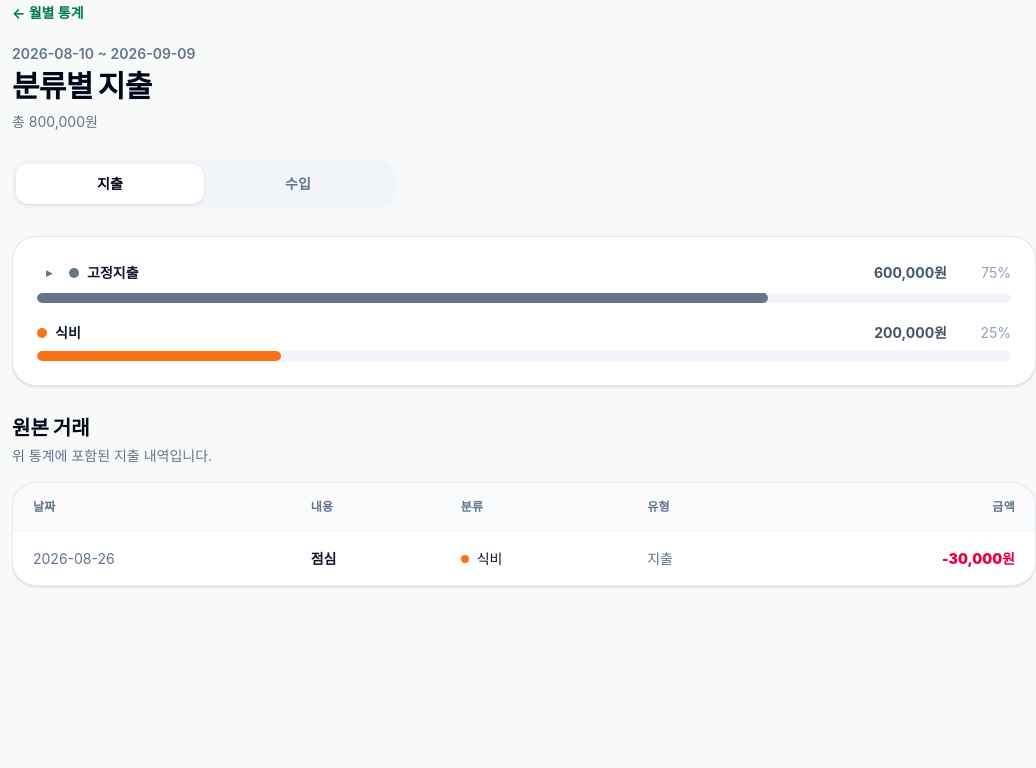
Scenario: StatisticsDetailScreen › shows grouped totals collapsed and expands their category details
Expected: the heading "분류별 지출" is shown, [12,68,152,104]
Expected: the text "주거비" is not shown
Click the button named "고정지출 하위 분류 펼치기": click(49, 273) [37,261,61,285]
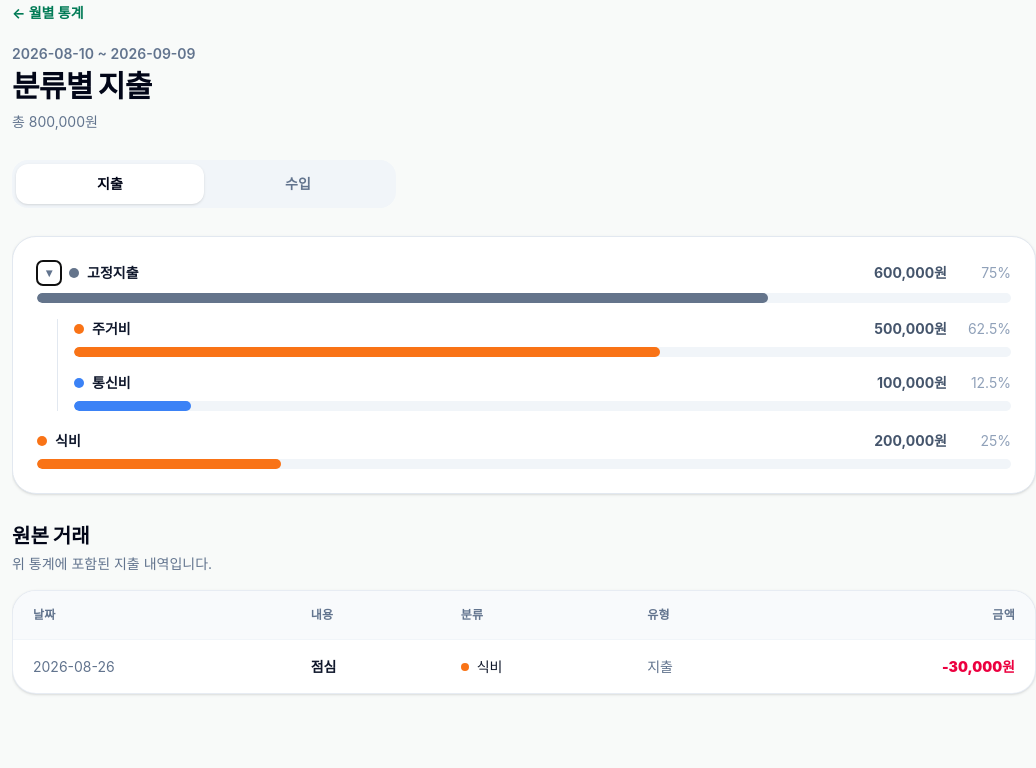
Now the button named "고정지출 하위 분류 펼치기" is expanded, box [37,261,61,285]
Now the text "주거비" is shown, box [92,320,131,337]
Now the text "통신비" is shown, box [92,374,131,391]
Type keys " "
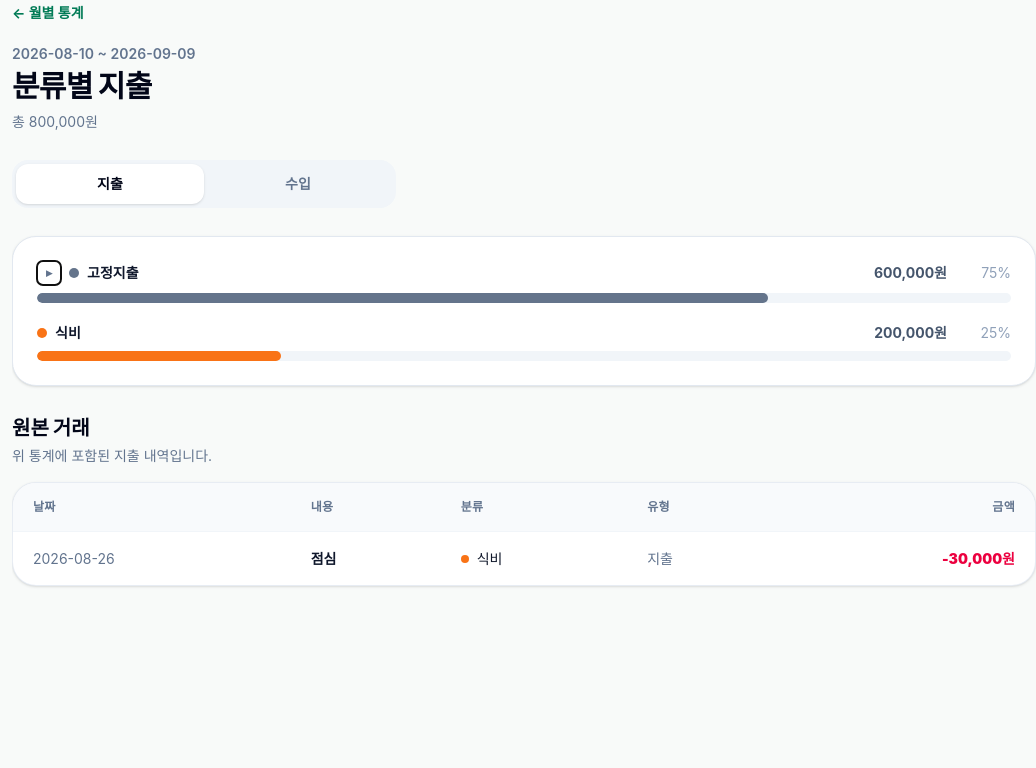
Now the button named "고정지출 하위 분류 펼치기" is collapsed, box [37,261,61,285]
Press Enter
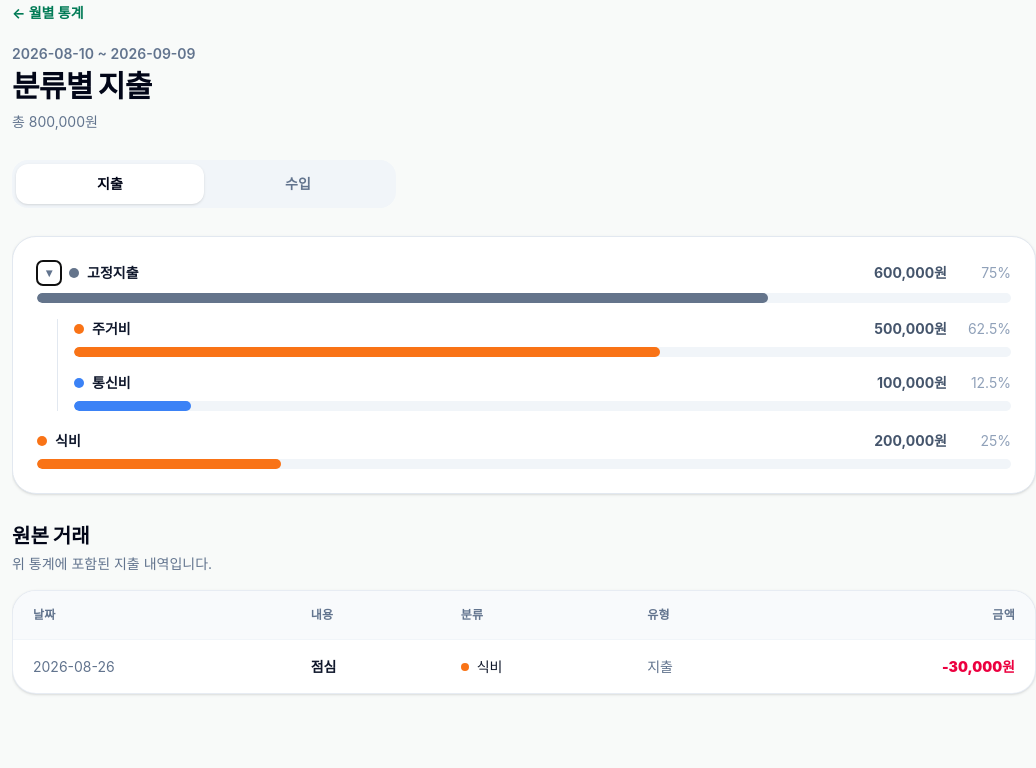
Now the button named "고정지출 하위 분류 펼치기" is expanded, box [37,261,61,285]
